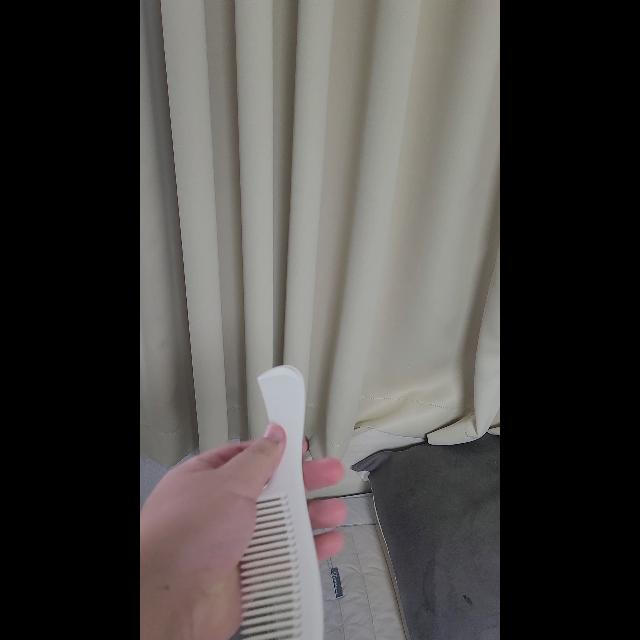COMB: (230, 364, 324, 640)
